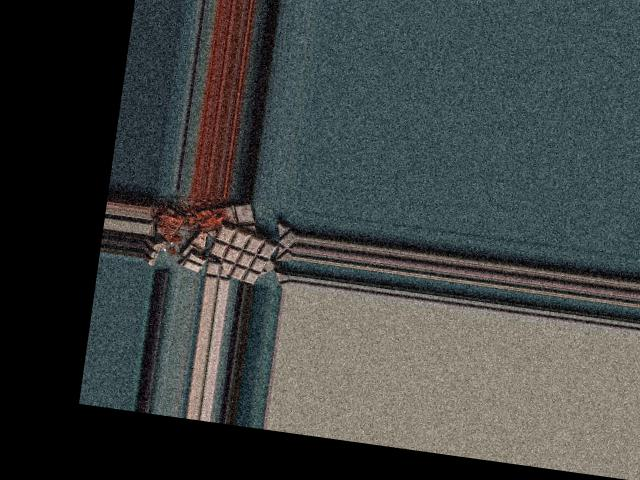chocolate: (207, 222, 281, 287)
